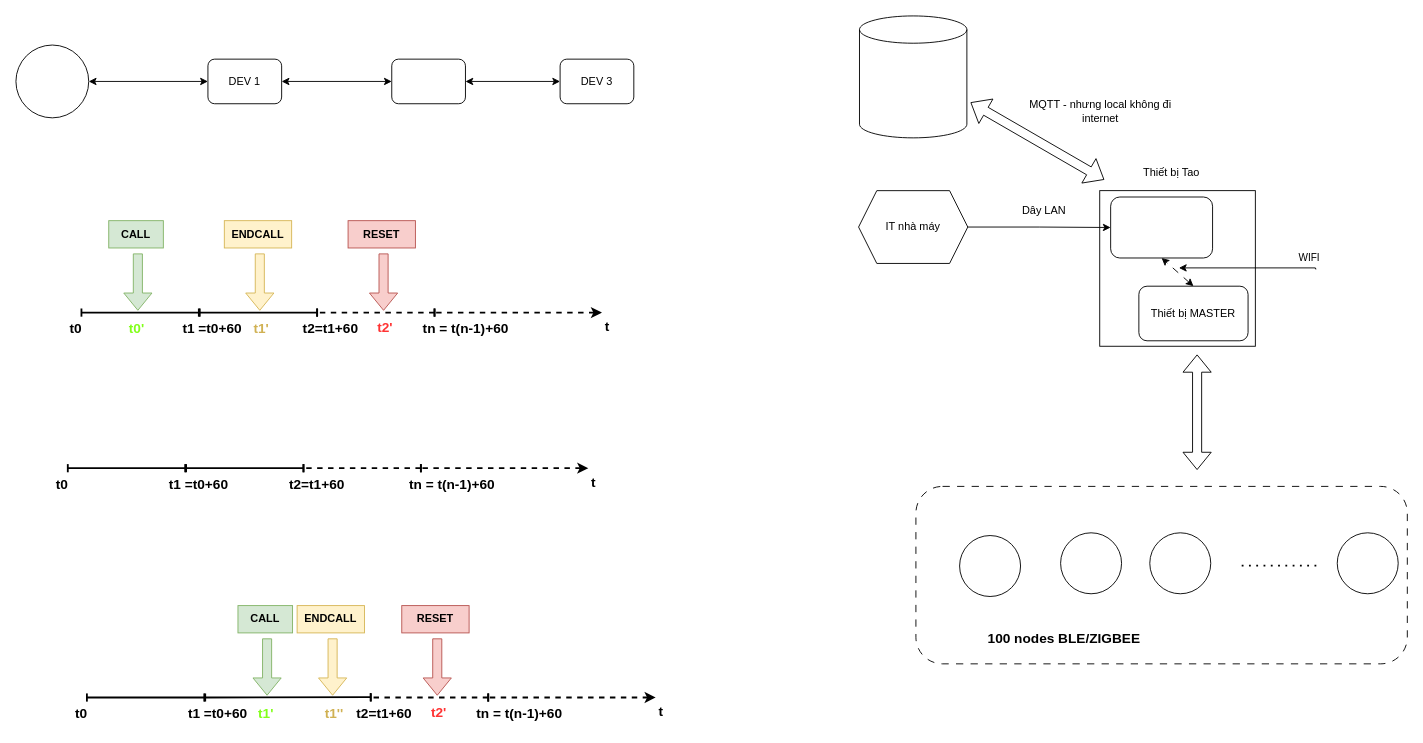
Image size: 1423x743. Some labels were removed from this diagram. Each missing label, with the box of its shape:
DEV 2: (391, 58, 465, 104)
GW: (15, 44, 89, 118)
Router Wifi (mua) của tplink: (1110, 196, 1213, 258)
server: (859, 15, 967, 138)
